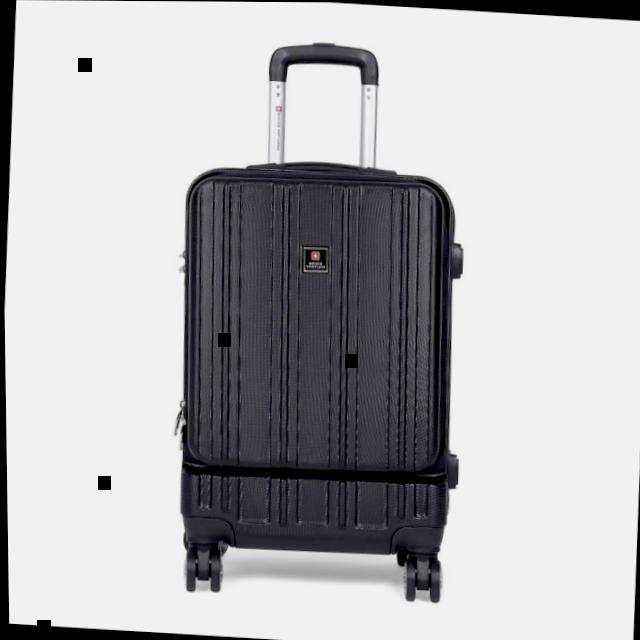luggage: (157, 147, 485, 607)
